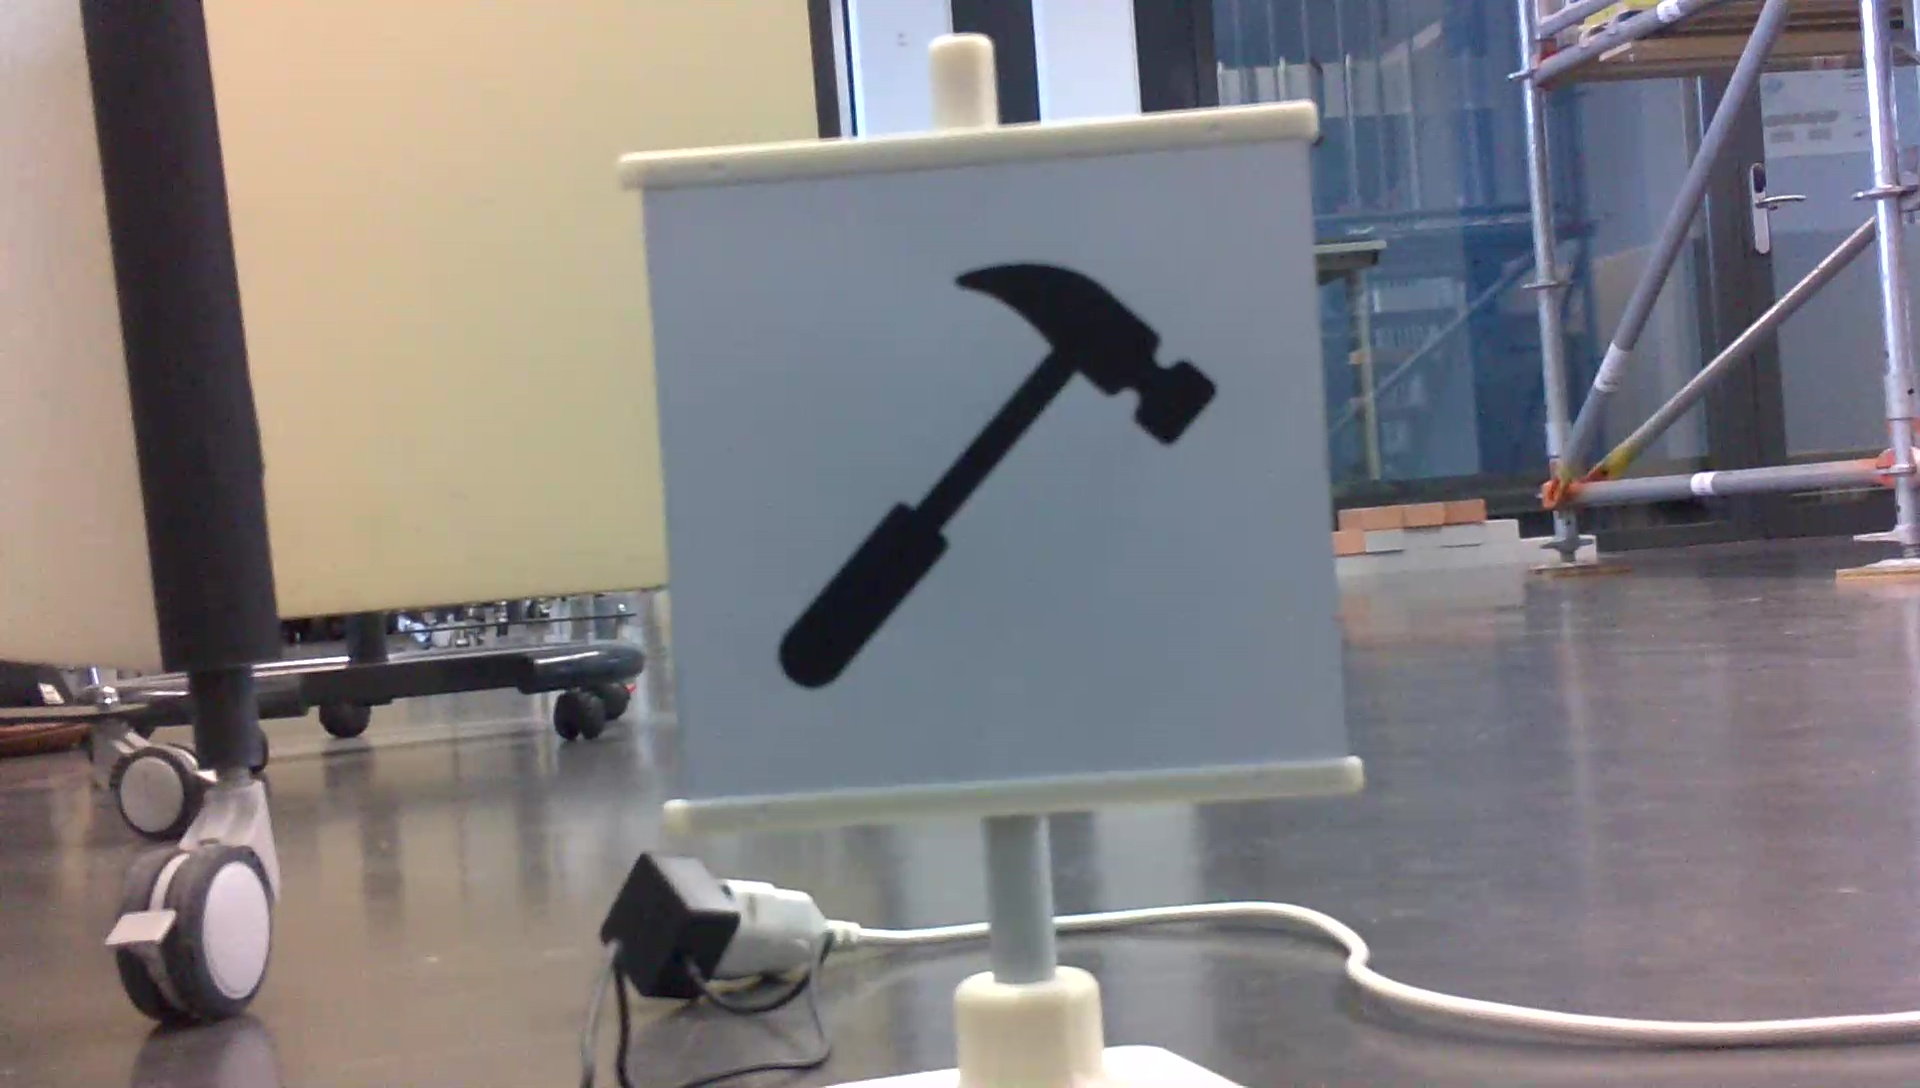hammer: (762, 253, 1228, 703)
